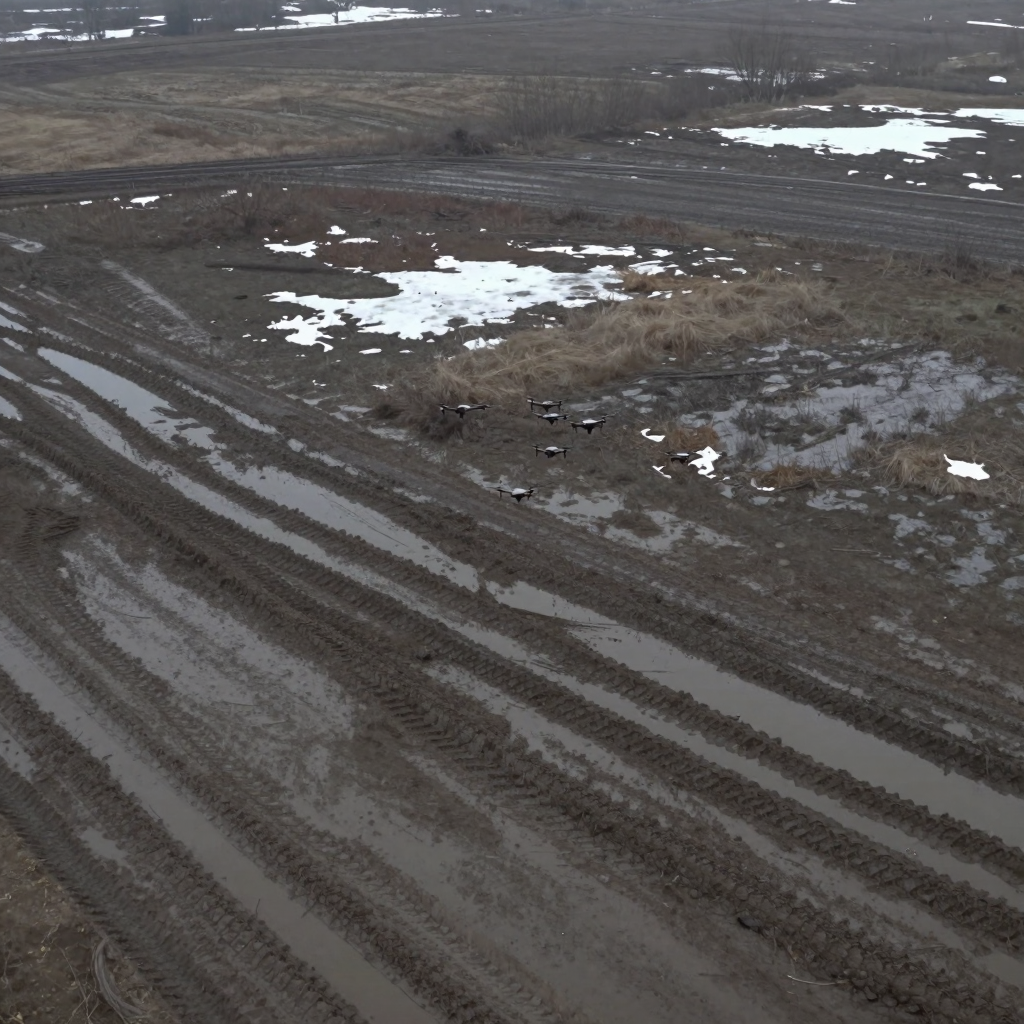drone: (438, 404, 491, 420), (526, 397, 562, 415), (531, 410, 570, 426), (571, 419, 606, 435), (532, 445, 571, 459), (512, 487, 535, 503)
